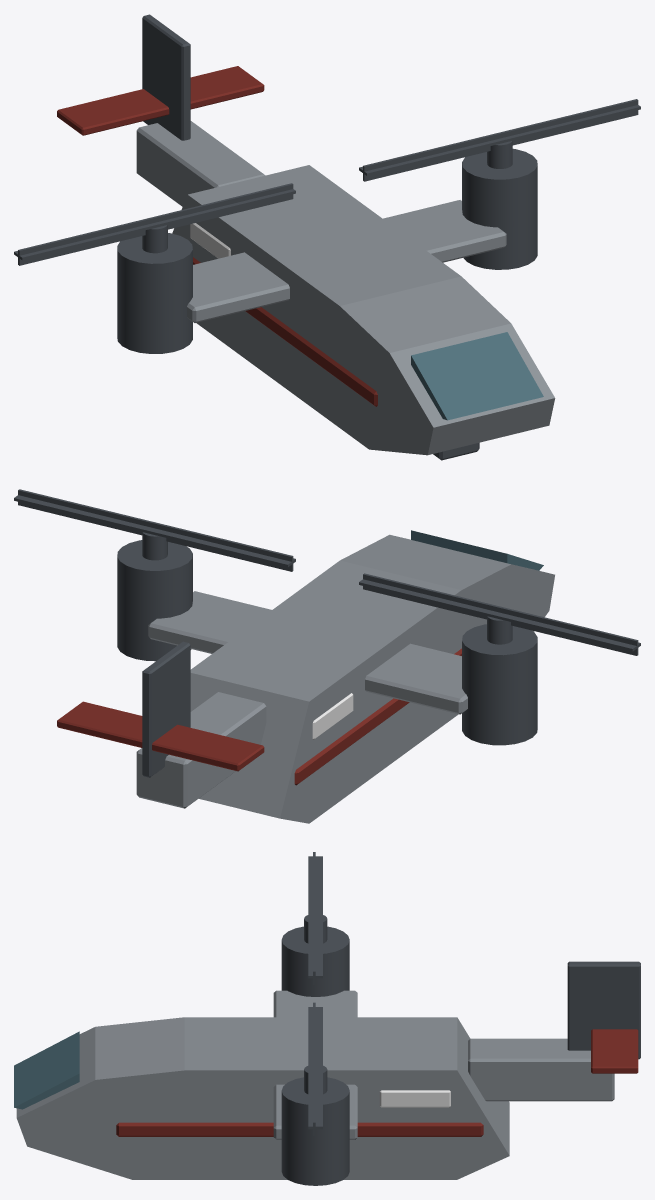
3 views of the same model, one above another, from view 1: azimuth 30°, elevation 25°; view 2: azimuth 150°, elevation 25°; view 3: azimuth 270°, elevation 25° (orthographic). The views are drawn at different scales.
Visible parts, largest first — view 1: garde_body_vertibird; view 2: garde_body_vertibird; view 3: garde_body_vertibird.
Part boxes in pixels (x1,y1,x2,y2): garde_body_vertibird: (14, 14, 640, 460); garde_body_vertibird: (14, 489, 640, 823); garde_body_vertibird: (14, 852, 640, 1185).
Bounding box in the file's own units: 12.2 × 4 × 11.95.
